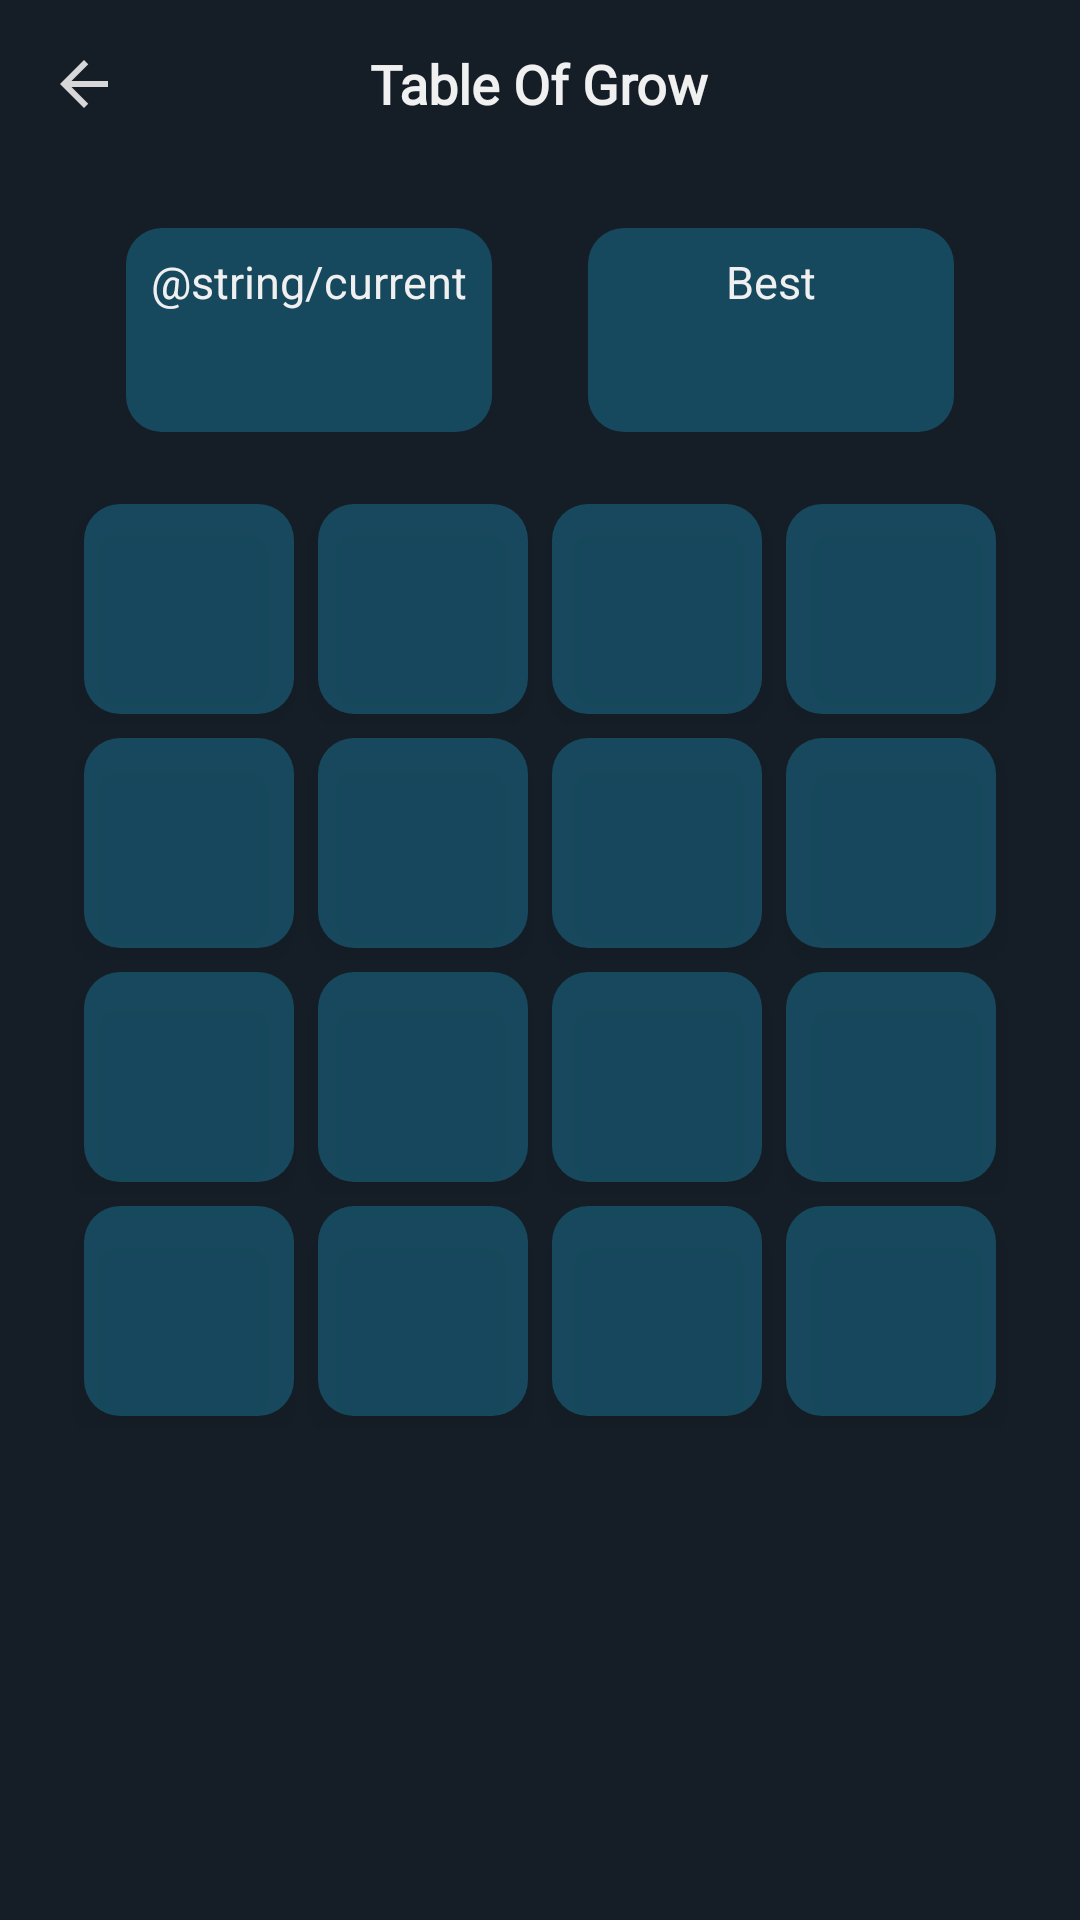

Named icons in this screenshot (1080*1920) and their centers, (x=x, y=y):
Navigate Up: (x=84, y=84)
